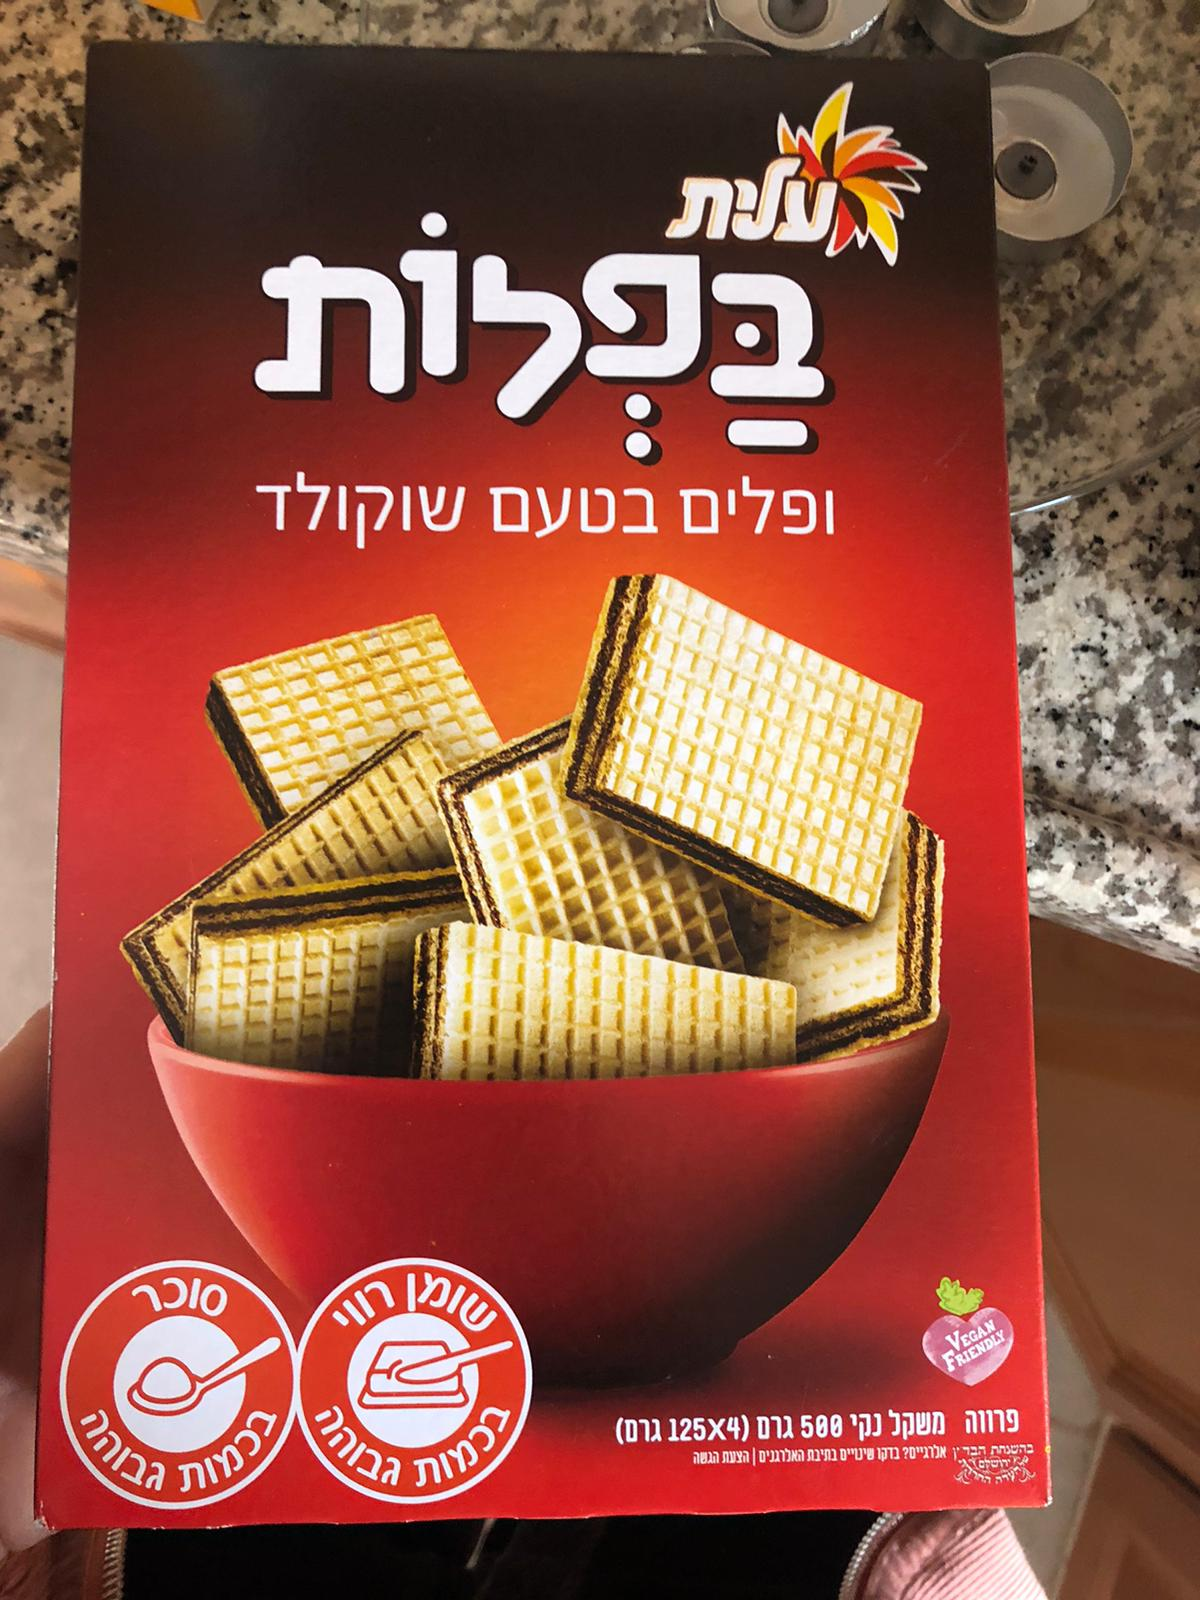fat: (292, 1255, 532, 1511)
sugar: (57, 1260, 303, 1508)
